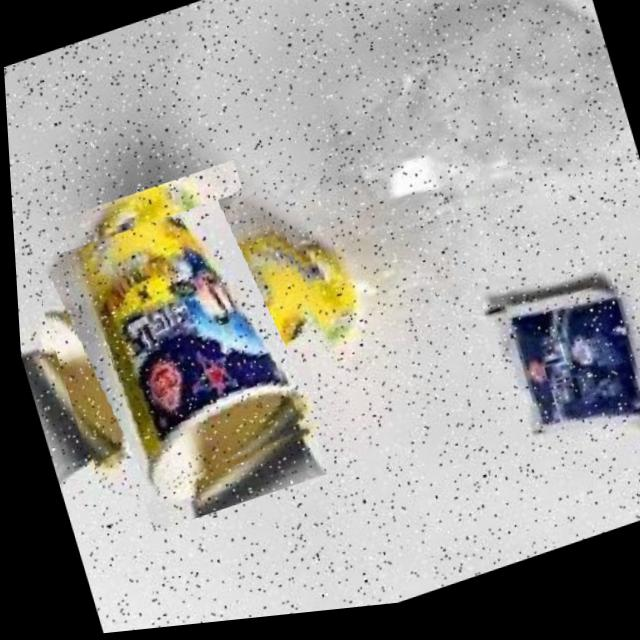Miscellaneous: (23, 177, 354, 519)
